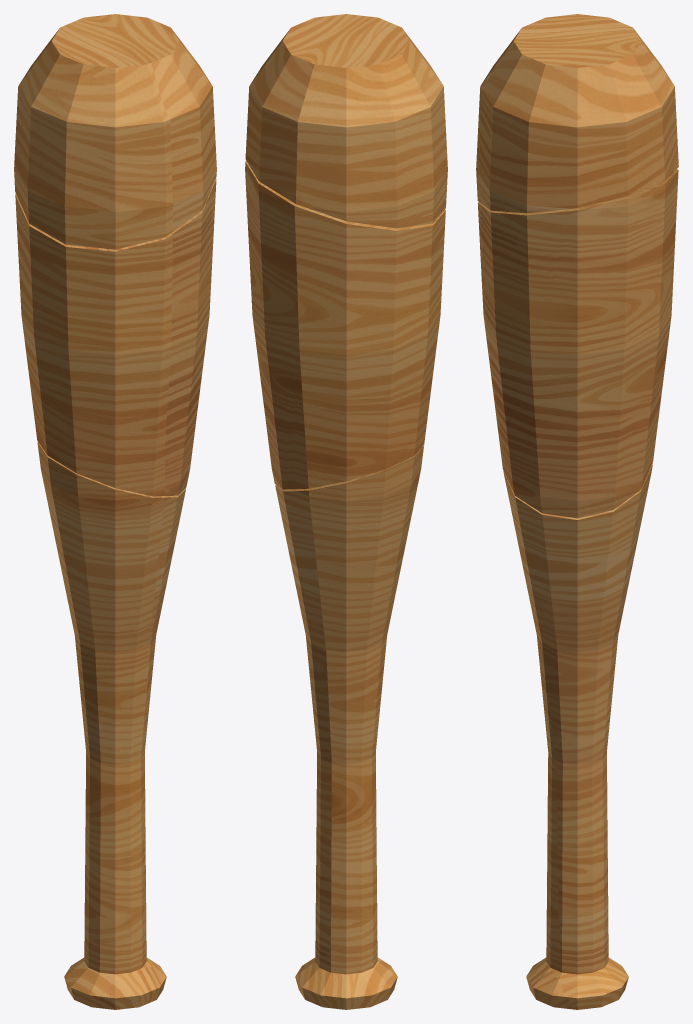
Rendered from Weapon_Baseball_Bat_Broken.fbx.
3 views of the same model, side by side, from view 1: azimuth 30°, elevation 25°; view 2: azimuth 150°, elevation 25°; view 3: azimuth 270°, elevation 25° (orthographic).
Visible parts, largest first — view 1: Weapon_Baseball_Bat_cell, Weapon_Baseball_Bat_cell.001, Weapon_Baseball_Bat_cell.002; view 2: Weapon_Baseball_Bat_cell, Weapon_Baseball_Bat_cell.001, Weapon_Baseball_Bat_cell.002; view 3: Weapon_Baseball_Bat_cell, Weapon_Baseball_Bat_cell.001, Weapon_Baseball_Bat_cell.002.
Part boxes in pixels (bbox=[...]): Weapon_Baseball_Bat_cell: bbox=[15, 178, 216, 496]; Weapon_Baseball_Bat_cell.001: bbox=[37, 442, 185, 1009]; Weapon_Baseball_Bat_cell.002: bbox=[14, 14, 216, 249]; Weapon_Baseball_Bat_cell: bbox=[245, 161, 445, 489]; Weapon_Baseball_Bat_cell.001: bbox=[275, 446, 423, 1009]; Weapon_Baseball_Bat_cell.002: bbox=[245, 14, 447, 228]; Weapon_Baseball_Bat_cell: bbox=[478, 169, 678, 518]; Weapon_Baseball_Bat_cell.001: bbox=[503, 463, 652, 1009]; Weapon_Baseball_Bat_cell.002: bbox=[476, 14, 678, 213].
Bounding box in the file's own units: 0.1671 × 0.8624 × 0.1671.
